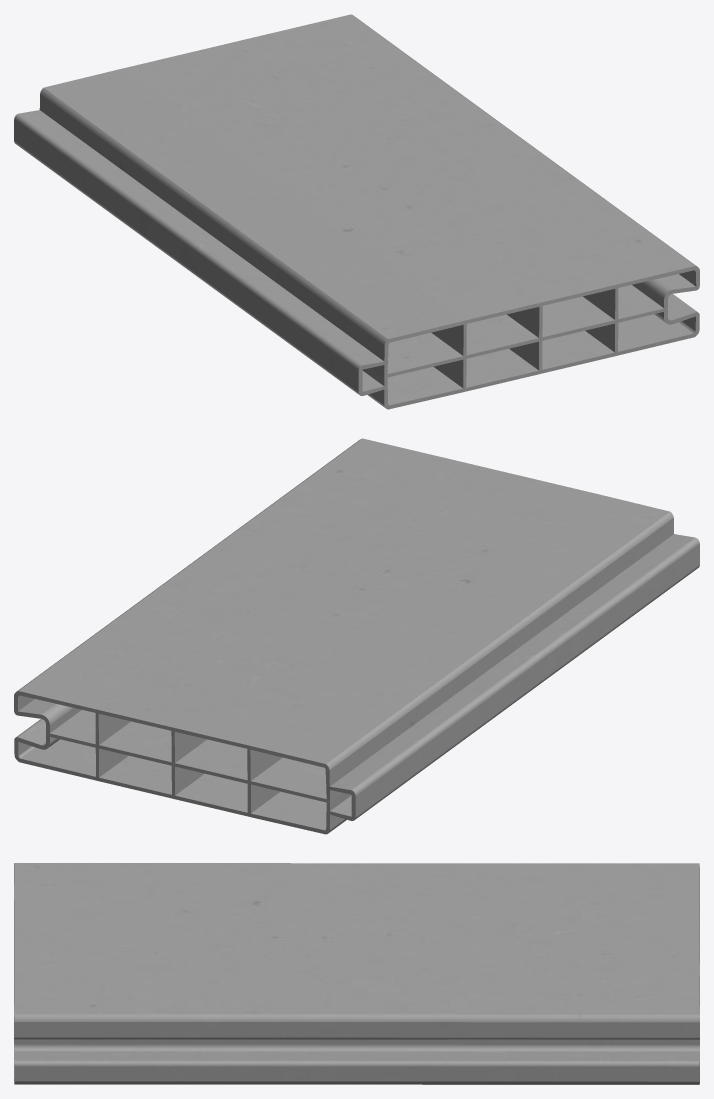
Rendered from lambrisade.glb.
3 views of the same model, one above another, from view 1: azimuth 30°, elevation 25°; view 2: azimuth 150°, elevation 25°; view 3: azimuth 270°, elevation 25° (orthographic).
Visible parts, largest first — view 1: meşe kaplama.003; view 2: meşe kaplama.003; view 3: meşe kaplama.003.
Part boxes in pixels (left/top/right/bottom): meşe kaplama.003: left=14, top=14, right=699, bottom=409; meşe kaplama.003: left=14, top=438, right=699, bottom=834; meşe kaplama.003: left=14, top=863, right=699, bottom=1084.
Size of the model in its own units: 5.85 by 1.2 by 10.22.
1 material, 1 textured.
